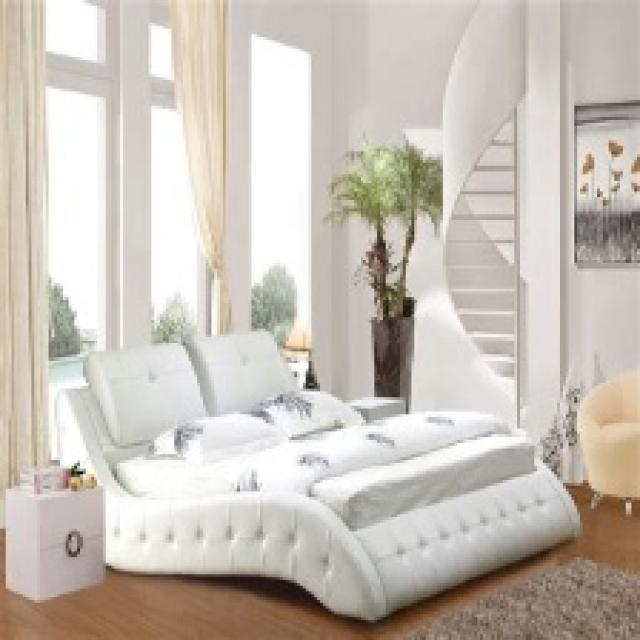Bed: (54, 328, 580, 623)
